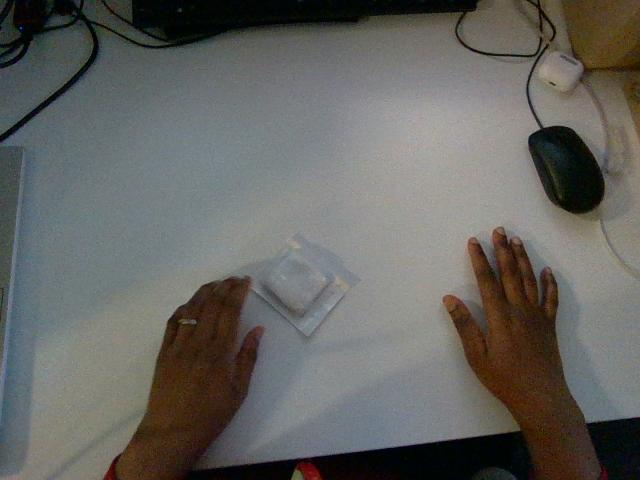gauze: (253, 235, 359, 335)
